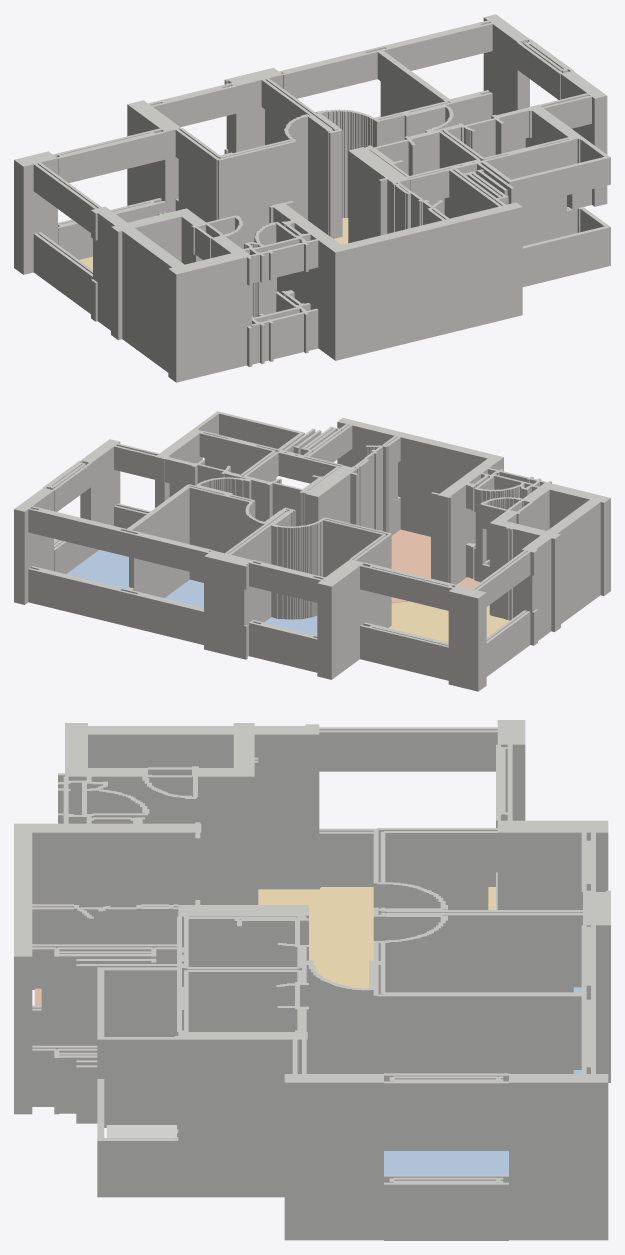
3 renders of one model, top to bottom at view 1: azimuth 30°, elevation 25°; view 2: azimuth 150°, elevation 25°; view 3: azimuth 270°, elevation 25°, orthographic. The views are drawn at different scales.
Parts seen in each view (by area): view 1: walls; view 2: walls, room:living:0, room:kitchen:5, room:bedroom:7, room:bedroom:2, room:bedroom:1; view 3: walls, room:living:0, room:bedroom:7, room:ledge:9.
Boxes of the visible parts, x1,y1,x2,y2 form: walls: [14, 14, 610, 382]; walls: [14, 411, 610, 691]; room:living:0: [389, 601, 509, 642]; room:kitchen:5: [391, 529, 479, 603]; room:bedroom:7: [66, 550, 128, 588]; room:bedroom:2: [165, 579, 203, 607]; room:bedroom:1: [264, 615, 317, 635]; walls: [14, 720, 610, 1240]; room:living:0: [258, 887, 495, 988]; room:bedroom:7: [384, 1151, 508, 1174]; room:ledge:9: [106, 1125, 176, 1137].
Size of the model in its own units: 13.85 by 2.8 by 9.62.
